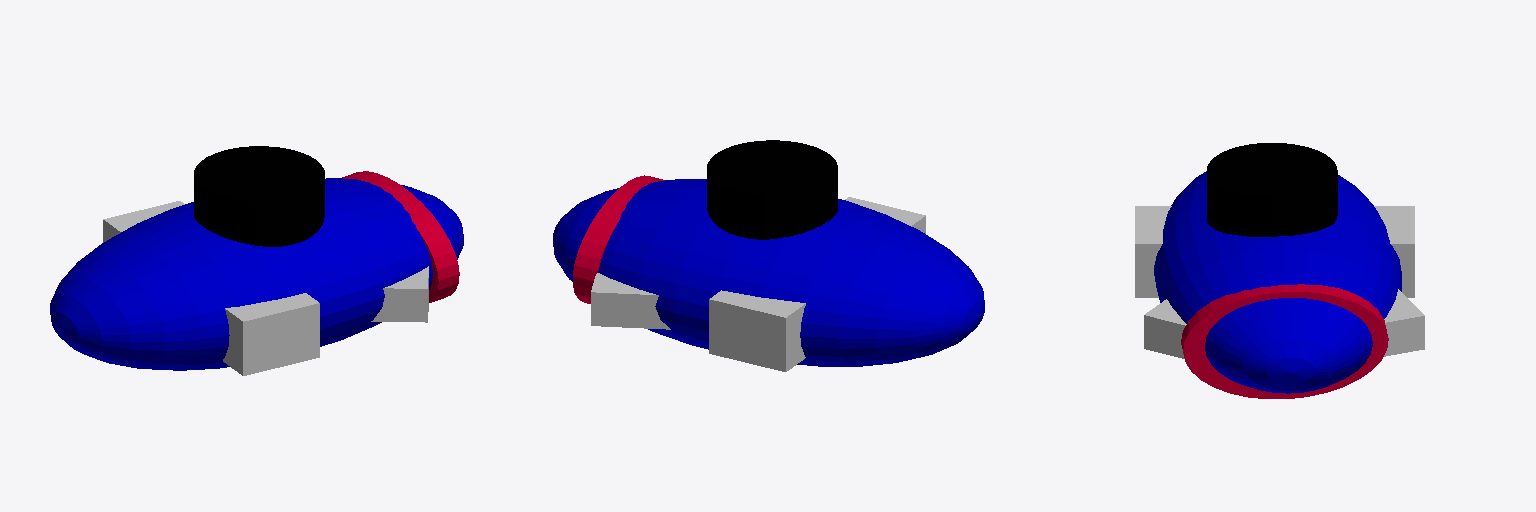
File: submarine2.obj
3 renders of one model, left to right at view 1: azimuth 30°, elevation 25°; view 2: azimuth 150°, elevation 25°; view 3: azimuth 270°, elevation 25°, orthographic.
Parts seen in each view (by area): view 1: Sphere, Cylinder, Cube.002_Cube.004, Cylinder.001, Cube_Cube.001; view 2: Sphere, Cylinder, Cube.002_Cube.004, Cylinder.001, Cube.001_Cube.002; view 3: Sphere, Cylinder, Cylinder.001, Cube.002_Cube.004, Cube.001_Cube.002, Cube_Cube.001.
Boxes of the visible parts, <box> form: Sphere: <box>50,178,463,370</box>; Cylinder: <box>194,146,324,246</box>; Cube.002_Cube.004: <box>103,201,319,375</box>; Cylinder.001: <box>342,171,459,302</box>; Cube_Cube.001: <box>371,266,428,322</box>; Sphere: <box>553,179,984,366</box>; Cylinder: <box>707,140,837,239</box>; Cube.002_Cube.004: <box>709,197,925,371</box>; Cylinder.001: <box>573,175,664,303</box>; Cube.001_Cube.002: <box>591,273,670,329</box>; Sphere: <box>1154,171,1401,393</box>; Cylinder: <box>1207,143,1337,236</box>; Cylinder.001: <box>1181,284,1388,398</box>; Cube.002_Cube.004: <box>1135,206,1414,297</box>; Cube.001_Cube.002: <box>1384,289,1424,356</box>; Cube_Cube.001: <box>1144,299,1186,358</box>.
Size of the model in its own units: 9.67 by 3.88 by 5.99.